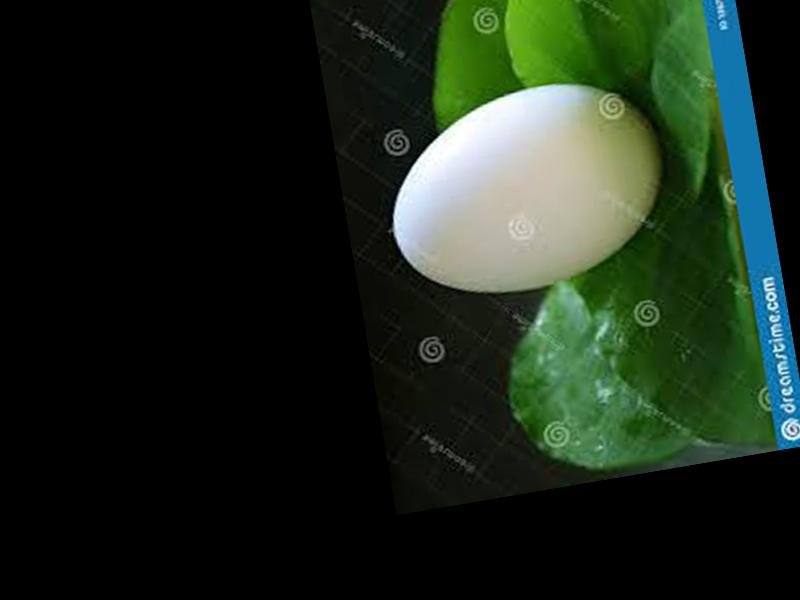Eggs: (373, 68, 678, 310)
